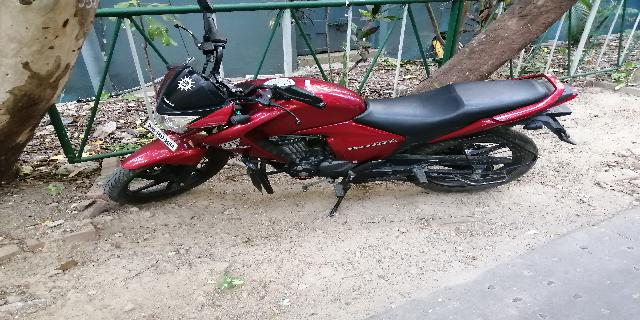Motorbike: (101, 9, 583, 217)
